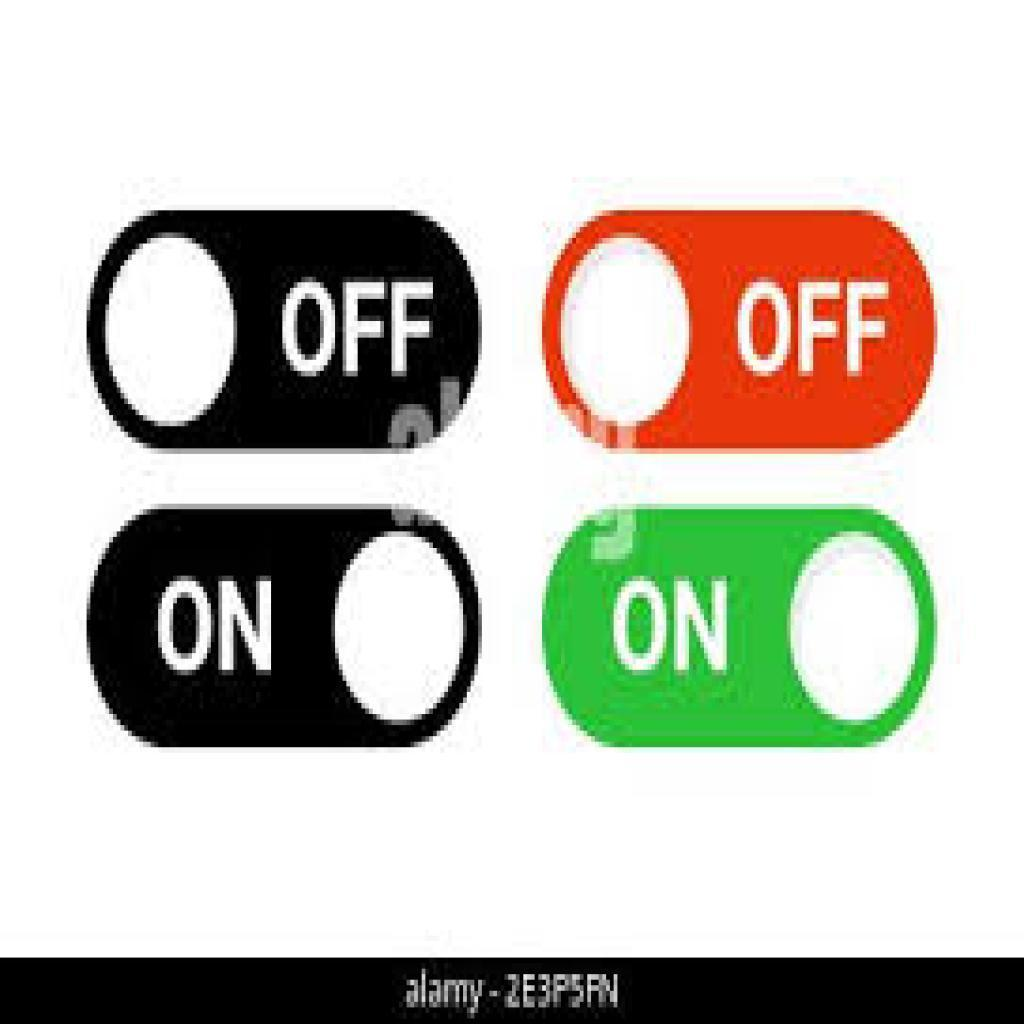switch: (87, 504, 483, 751), (544, 508, 941, 752), (543, 210, 936, 451), (90, 212, 481, 454)
